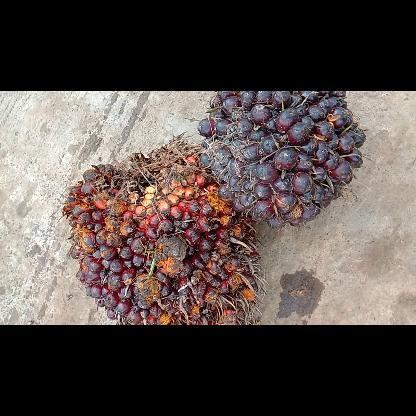TBS masak: (61, 138, 265, 324)
TBS mentah: (198, 91, 364, 229)
